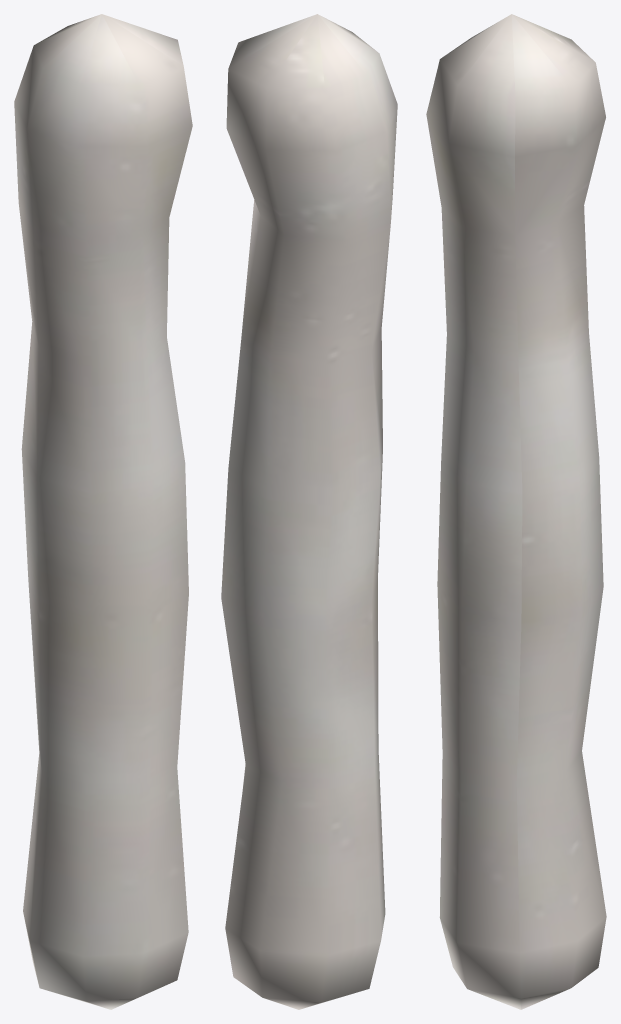
File: wall.low.gingerbread.corner.r.glb
3 views of the same model, side by side, from view 1: azimuth 30°, elevation 25°; view 2: azimuth 150°, elevation 25°; view 3: azimuth 270°, elevation 25° (orthographic).
Parts seen in each view (by area): view 1: wall.third.corner.L_LOD0; view 2: wall.third.corner.L_LOD0; view 3: wall.third.corner.L_LOD0.
Part boxes in pixels (x1=…): wall.third.corner.L_LOD0: x1=14, y1=14, x2=192, y2=1009; wall.third.corner.L_LOD0: x1=221, y1=14, x2=397, y2=1009; wall.third.corner.L_LOD0: x1=426, y1=14, x2=606, y2=1009.
Size of the model in its own units: 0.1814 by 1.11 by 0.1827.
Materials: 1 (1 with a texture image).
